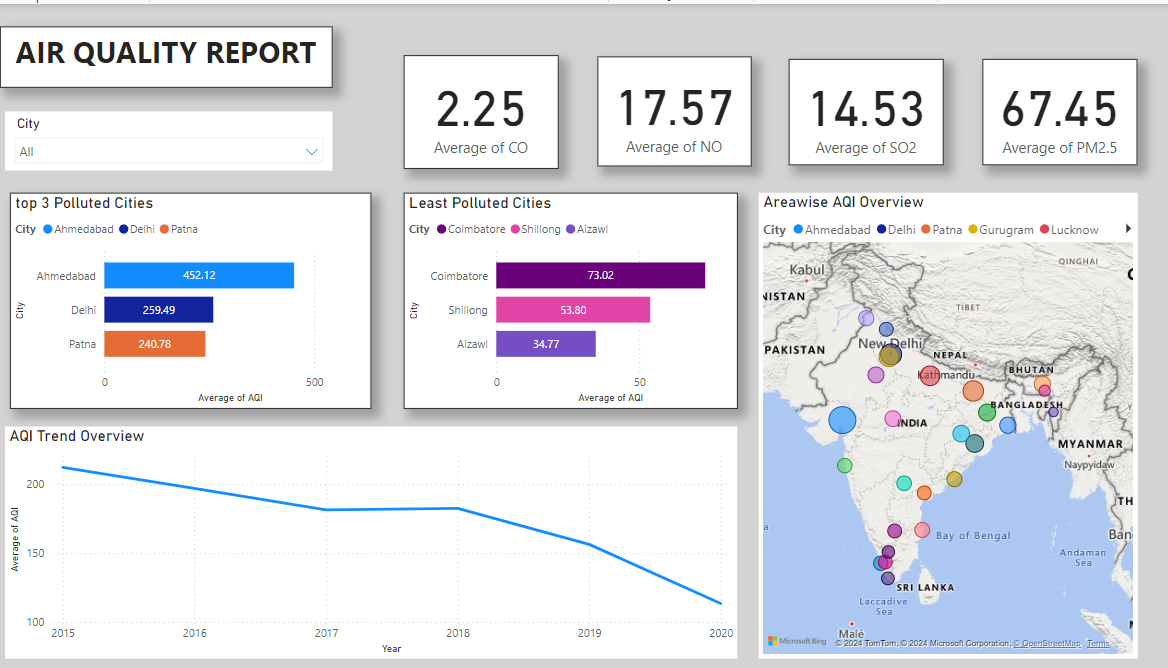

This screenshot's page, from the dashboard's own definition file:
{"tool":"powerbi","page":{"name":"Page 1","canvas":[1280,720],"ordinal":0},"visuals":[{"type":"lineChart","title":"AQI Trend Overview","fields":{"Category":["city_day.Date.Variation.Date Hierarchy.Year","city_day.Date.Variation.Date Hierarchy.Quarter","city_day.Date.Variation.Date Hierarchy.Month","city_day.Date.Variation.Date Hierarchy.Day"],"Y":["Avg(city_day.AQI)"]},"box":[5.4,458.4,794.7,252.3],"z":0},{"type":"slicer","fields":{"Values":["city_day.City"]},"box":[5.4,116.6,355.3,63.7],"z":1000},{"type":"barChart","title":"top 3 Polluted Cities","fields":{"Category":["city_day.City"],"Y":["Avg(city_day.AQI)"],"Series":["city_day.City"]},"box":[10.8,204.8,391.9,234.6],"z":2000},{"type":"barChart","title":"Least Polluted Cities","fields":{"Category":["city_day.City"],"Y":["Avg(city_day.AQI)"],"Series":["city_day.City"]},"box":[438.1,204.8,362.1,234.6],"z":2001},{"type":"card","fields":{"Values":["Avg(city_day.CO)"]},"box":[438.1,55.1,168.2,123.4],"z":2002},{"type":"card","fields":{"Values":["Avg(city_day.NO)"]},"box":[647.8,57.1,166.8,119.3],"z":2003},{"type":"card","fields":{"Values":["Avg(city_day.SO2)"]},"box":[856.2,59.2,168.2,115.3],"z":2004},{"type":"card","fields":{"Values":["Avg(city_day.PM2.5)"]},"box":[1066,59.2,168.2,115.3],"z":2005},{"type":"map","title":"Areawise AQI Overview","fields":{"Category":["city_day.City"],"Size":["Avg(city_day.AQI)"],"Series":["city_day.City"]},"box":[823.2,204.8,410.9,505.9],"z":2006},{"type":"textbox","box":[0,24.4,360.8,66.5],"z":2007}]}

Visuals, with their boxes in screenshot pixels (x1, y1, x2, y2), scaled from the page's 1280x720 canvas onto the 1168x668 screenshot:
"AQI Trend Overview" lineChart: Rect(5, 425, 730, 659)
slicer - city_day.City: Rect(5, 108, 329, 167)
"top 3 Polluted Cities" barChart: Rect(10, 190, 367, 408)
"Least Polluted Cities" barChart: Rect(400, 190, 730, 408)
card - Avg(city_day.CO): Rect(400, 51, 553, 166)
card - Avg(city_day.NO): Rect(591, 53, 743, 164)
card - Avg(city_day.SO2): Rect(781, 55, 935, 162)
card - Avg(city_day.PM2.5): Rect(973, 55, 1126, 162)
"Areawise AQI Overview" map: Rect(751, 190, 1126, 659)
textbox: Rect(0, 23, 329, 84)
